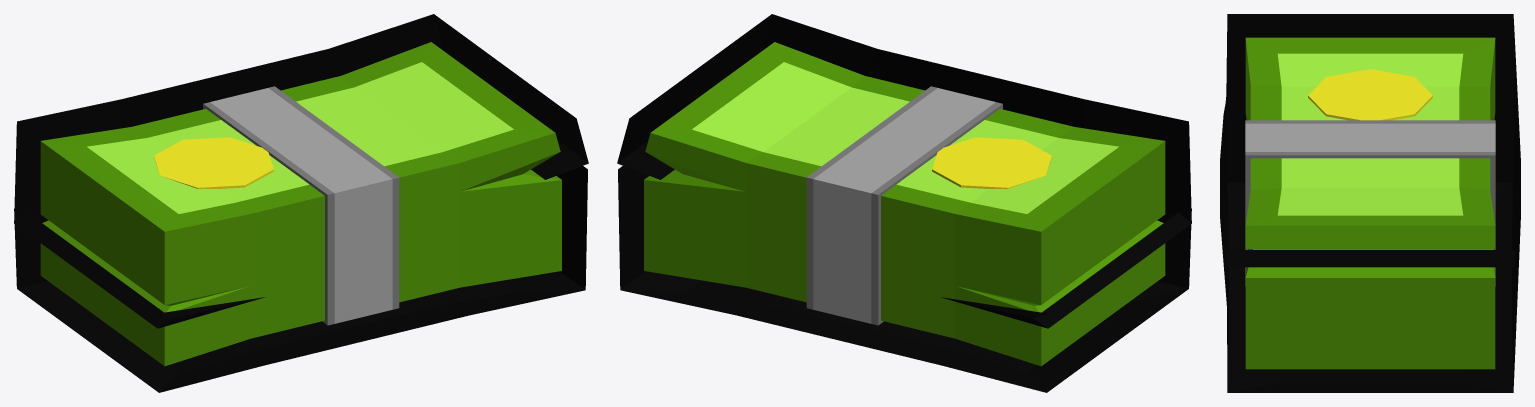
File: Money.fbx
3 renders of one model, left to right at view 1: azimuth 30°, elevation 25°; view 2: azimuth 150°, elevation 25°; view 3: azimuth 270°, elevation 25°, orthographic.
Parts seen in each view (by area): view 1: Money; view 2: Money; view 3: Money.
Part boxes in pixels (x1,y1,x2,y2): Money: (14,14,588,392); Money: (617,14,1191,392); Money: (1220,14,1520,392).
Bounding box in the file's own units: 65.18 × 27.65 × 39.12.
